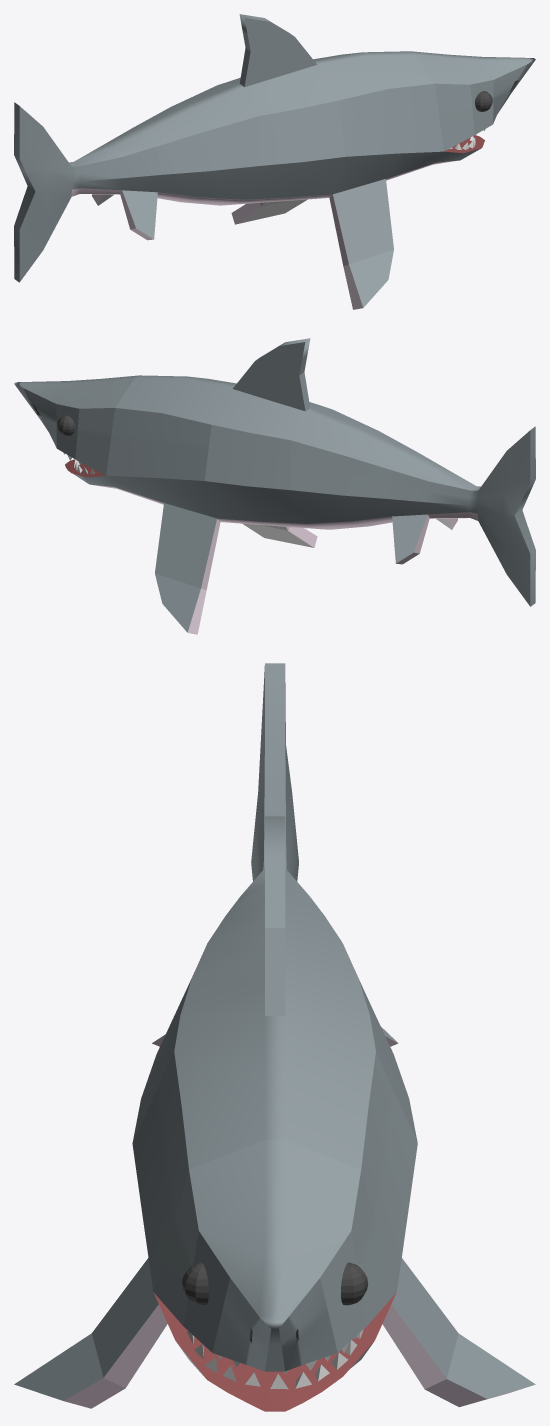
Rendered from Shark 1.fbx.
3 renders of one model, top to bottom at view 1: azimuth 30°, elevation 25°; view 2: azimuth 150°, elevation 25°; view 3: azimuth 270°, elevation 25°, orthographic. The views are drawn at different scales.
Visible parts, largest first — view 1: Shark; view 2: Shark; view 3: Shark.
Part boxes in pixels (x1,y1,x2,y2): Shark: [14, 14, 535, 309]; Shark: [14, 338, 535, 634]; Shark: [14, 663, 535, 1411].
Bounding box in the file's own units: 6.65 × 3.24 × 2.91.
